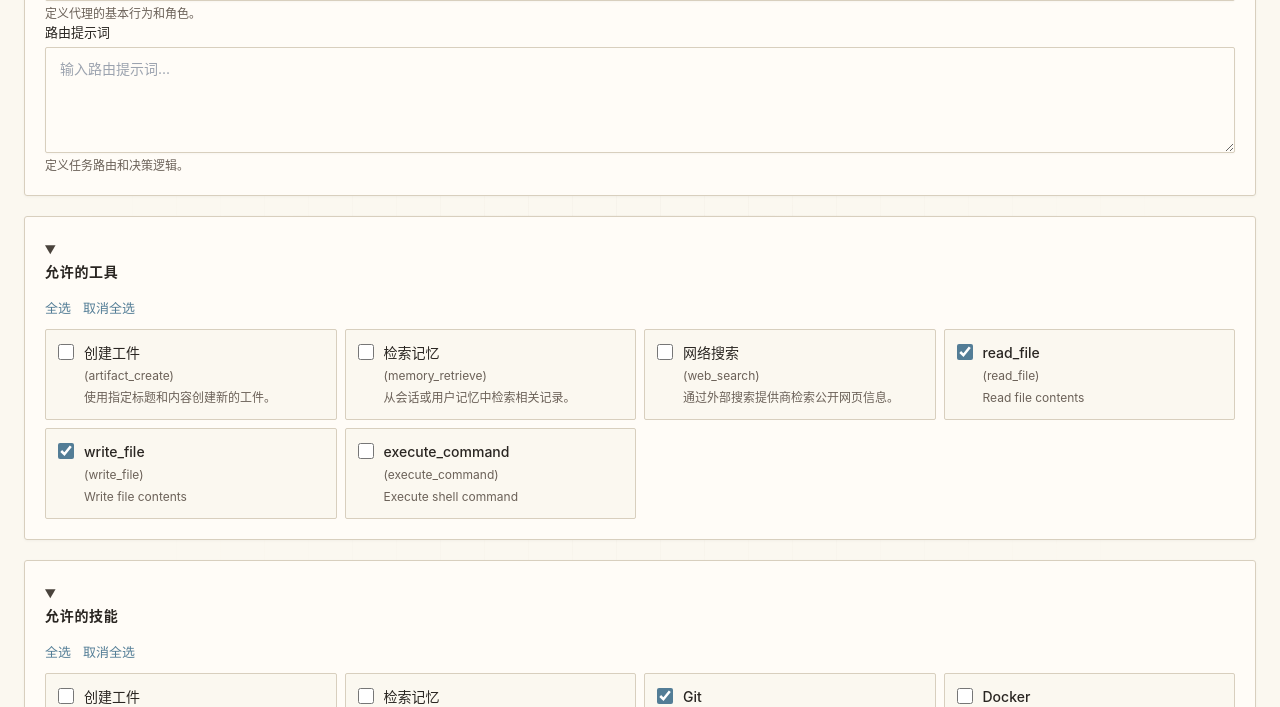
Test: AgentsTab › Form Interactions › should select all tools when select all clicked
(page scrolled)
Click the button with test id "select-all-tools-btn" at [58, 307], box 45,298 -> 71,316
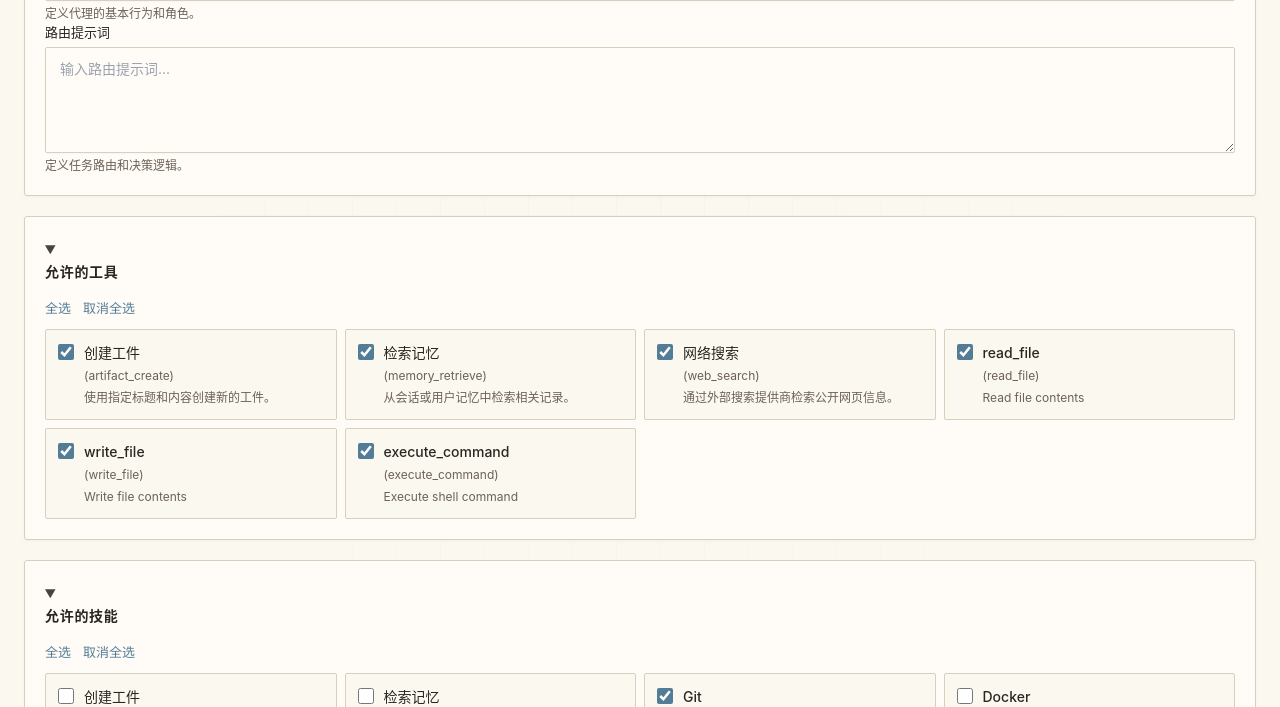
Expected: the checkbox with test id "tool-checkbox-read_file" is checked, 956,344 -> 972,360
Expected: the checkbox with test id "tool-checkbox-execute_command" is checked, 358,442 -> 374,458
